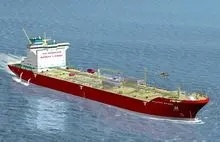Cargoship: (6, 33, 209, 122)
